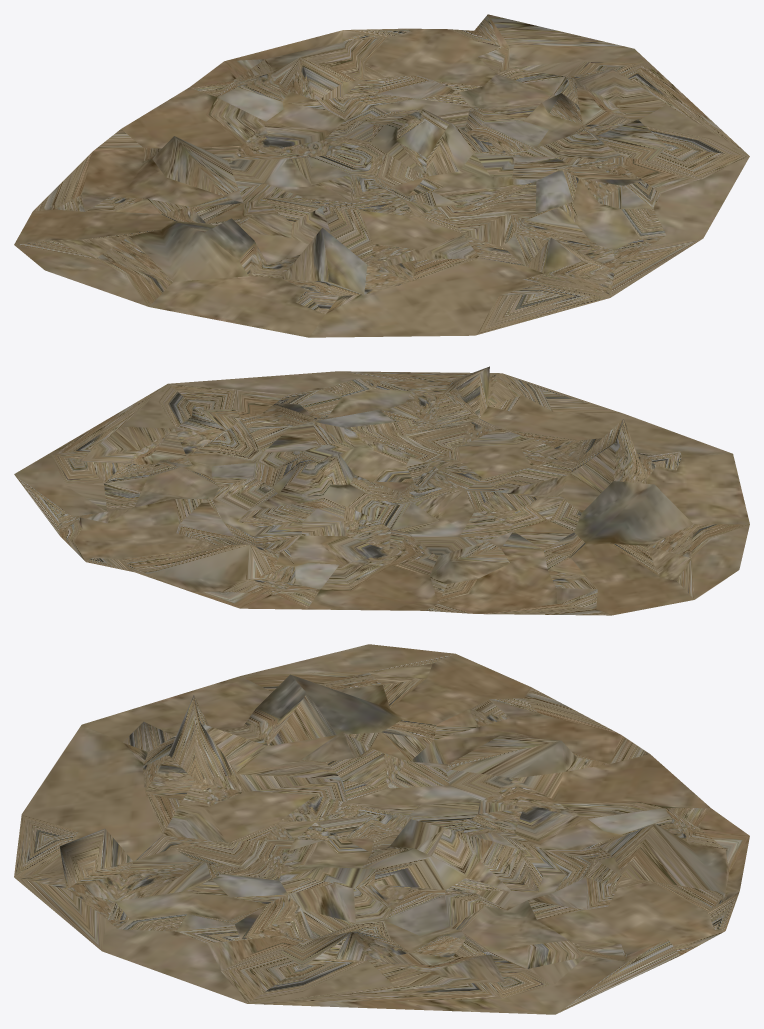
3 views of the same model, one above another, from view 1: azimuth 30°, elevation 25°; view 2: azimuth 150°, elevation 25°; view 3: azimuth 270°, elevation 25° (orthographic). The views are drawn at different scales.
Visible parts, largest first — view 1: sand_rocks_small_01_lod2; view 2: sand_rocks_small_01_lod2; view 3: sand_rocks_small_01_lod2.
Part boxes in pixels (left/top/right/bottom): sand_rocks_small_01_lod2: left=14, top=14, right=749, bottom=337; sand_rocks_small_01_lod2: left=14, top=366, right=749, bottom=615; sand_rocks_small_01_lod2: left=14, top=644, right=749, bottom=1014.
Size of the model in its own units: 4.44 by 0.4424 by 3.77.
Materials: 1 (1 with a texture image).
